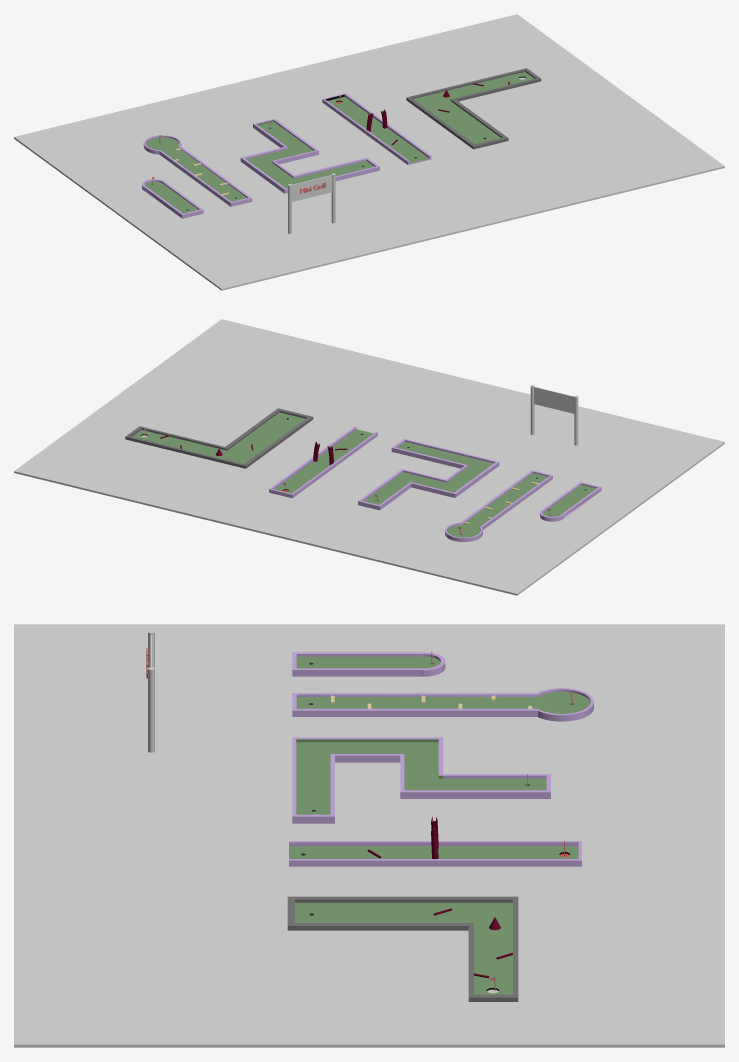
The model's file is touslesterrain.fbx.
The picture shows the model from 3 angles, top to bottom: view 1: azimuth 30°, elevation 25°; view 2: azimuth 150°, elevation 25°; view 3: azimuth 270°, elevation 25°; orthographic projection. The views are drawn at different scales.
Visible parts, largest first — view 1: Cube, Cube.009, Cube.017, Cube.015, Cube.003, Cube.002, Cube.001; view 2: Cube, Cube.009, Cube.017, Cube.015, Cube.003, Cube.002, Cube.001; view 3: Cube, Cube.009, Cube.017, Cube.015, Cube.003, Cube.002.
Part boxes in pixels (x1=…): Cube: x1=14, y1=14, x2=724, y2=290; Cube.009: x1=406, y1=68, x2=541, y2=149; Cube.017: x1=240, y1=118, x2=379, y2=193; Cube.015: x1=143, y1=135, x2=252, y2=206; Cube.003: x1=322, y1=93, x2=431, y2=164; Cube.002: x1=142, y1=179, x2=203, y2=218; Cube.001: x1=292, y1=175, x2=332, y2=201; Cube: x1=14, y1=319, x2=724, y2=595; Cube.009: x1=125, y1=408, x2=313, y2=468; Cube.017: x1=358, y1=438, x2=499, y2=510; Cube.015: x1=445, y1=470, x2=552, y2=541; Cube.003: x1=269, y1=426, x2=377, y2=498; Cube.002: x1=540, y1=482, x2=601, y2=521; Cube.001: x1=534, y1=387, x2=574, y2=413; Cube: x1=14, y1=624, x2=724, y2=1047; Cube.009: x1=287, y1=896, x2=518, y2=1001; Cube.017: x1=292, y1=737, x2=550, y2=823; Cube.015: x1=292, y1=688, x2=593, y2=721; Cube.003: x1=289, y1=841, x2=581, y2=866; Cube.002: x1=292, y1=652, x2=445, y2=676.
Bounding box in the file's own units: 21070 × 2006 × 15064.
